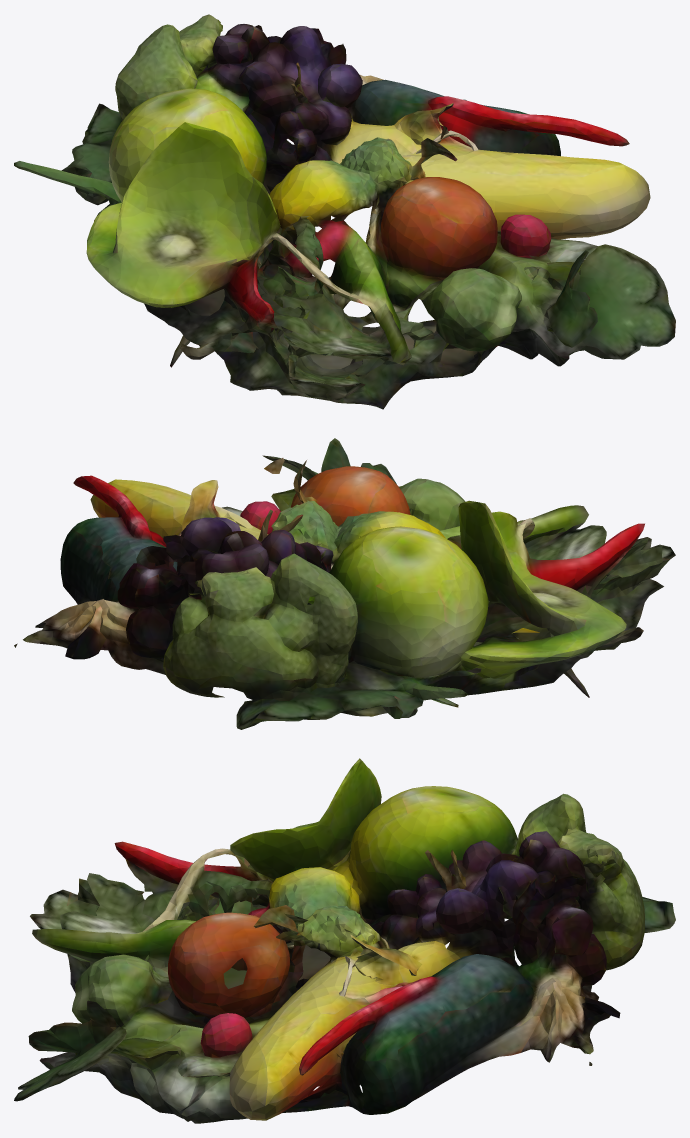
File: FOOD.glb
The picture shows the model from 3 angles, top to bottom: view 1: azimuth 30°, elevation 25°; view 2: azimuth 150°, elevation 25°; view 3: azimuth 270°, elevation 25°; orthographic projection. The views are drawn at different scales.
Visible parts, largest first — view 1: Food; view 2: Food; view 3: Food.
Part boxes in pixels (box(x1,y1,x2,y2)): Food: box(14, 14, 675, 409); Food: box(14, 438, 675, 729); Food: box(14, 758, 675, 1123).
Bounding box in the file's own units: 0.8879 × 0.3446 × 0.9424.
1 material, 1 textured.
